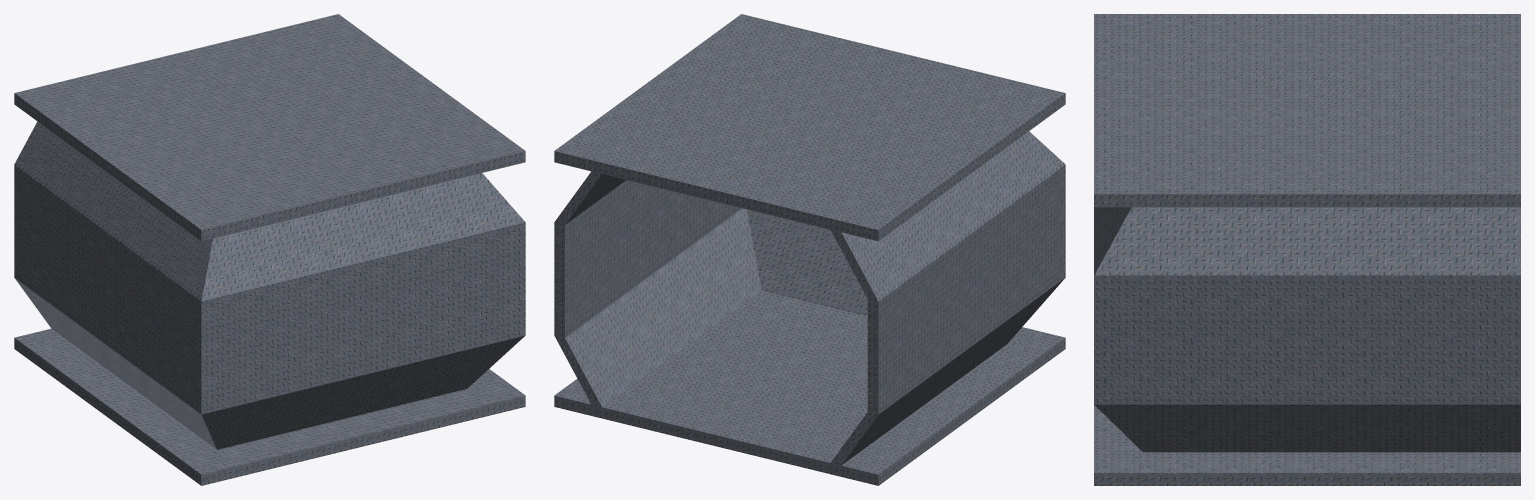
3 renders of one model, left to right at view 1: azimuth 30°, elevation 25°; view 2: azimuth 150°, elevation 25°; view 3: azimuth 270°, elevation 25°, orthographic. The views are drawn at different scales.
Parts seen in each view (by area): view 1: SketchUp_ID3.002, SketchUp.003_ID32.001; view 2: SketchUp_ID3.002, SketchUp.002_ID24.001, SketchUp.003_ID32.001; view 3: SketchUp_ID3.002, SketchUp.003_ID32.001.
Boxes of the visible parts, x1,y1,x2,y2 form: SketchUp_ID3.002: [14, 14, 525, 485]; SketchUp.003_ID32.001: [15, 328, 525, 474]; SketchUp_ID3.002: [554, 14, 1065, 485]; SketchUp.002_ID24.001: [565, 174, 867, 406]; SketchUp.003_ID32.001: [554, 327, 1064, 474]; SketchUp_ID3.002: [1094, 14, 1520, 485]; SketchUp.003_ID32.001: [1094, 405, 1520, 472].
Size of the model in its own units: 3 by 2.26 by 3.
Materials: 1 (1 with a texture image).
